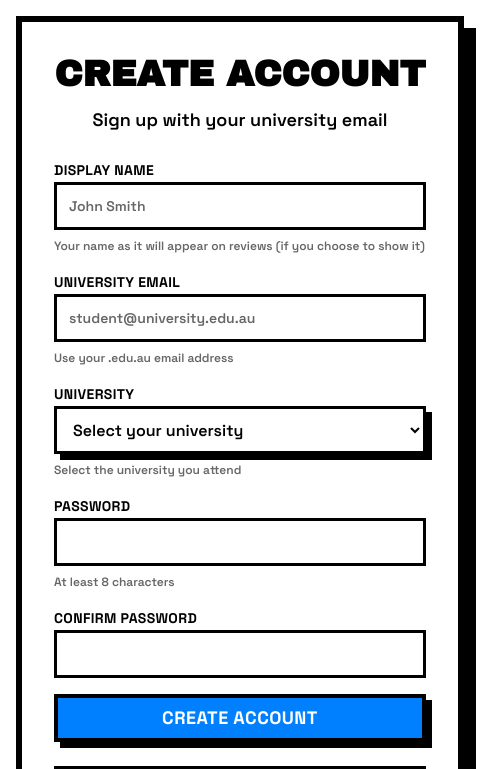
Test: Register › password mismatch shows error
Type "Test User" into the field labelled "Display Name". click: (240, 206)
box: [54,182,426,230]
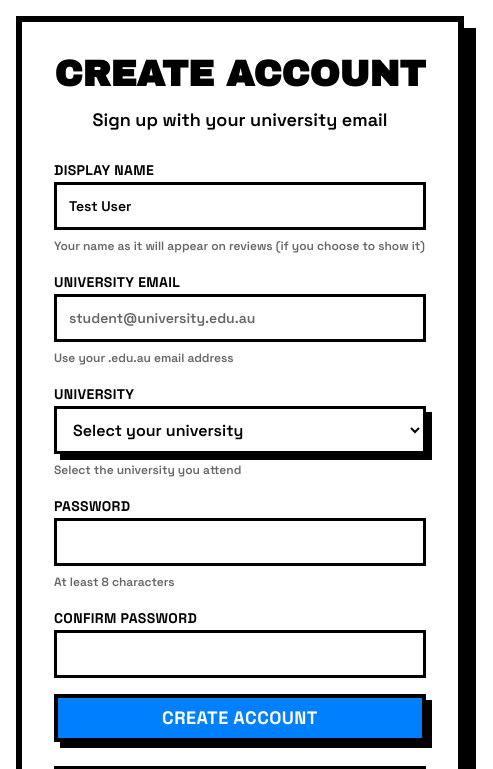
Type "test@uts.edu.au" into the field labelled "University Email". click: (240, 318)
box: [54,294,426,342]
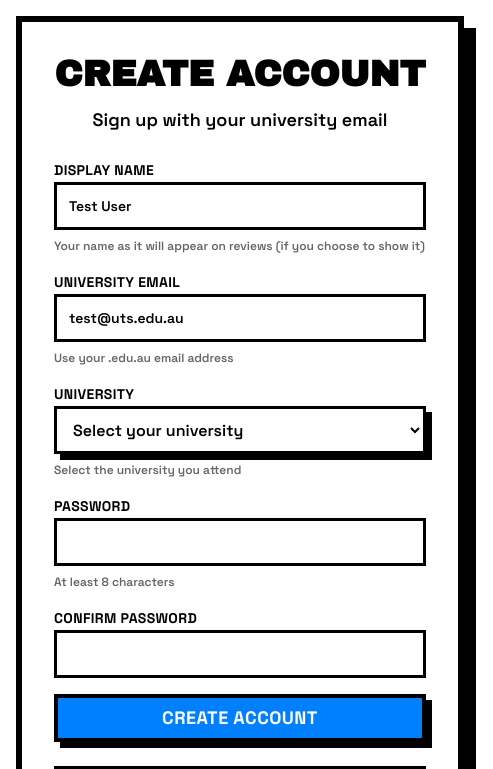
Select "University of Technology Sydney" in the dropdown labelled "University". click: (240, 430)
box: [54,406,426,454]
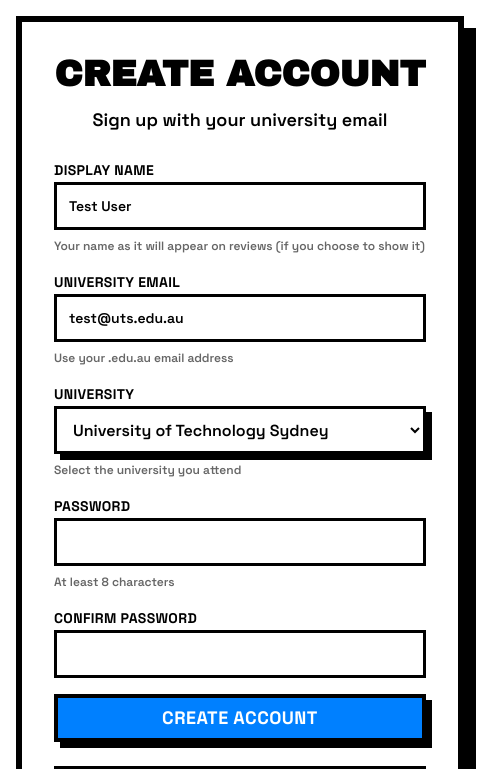
Type "password123" into the password field labelled "Password". click: (240, 542)
box: [54,518,426,566]
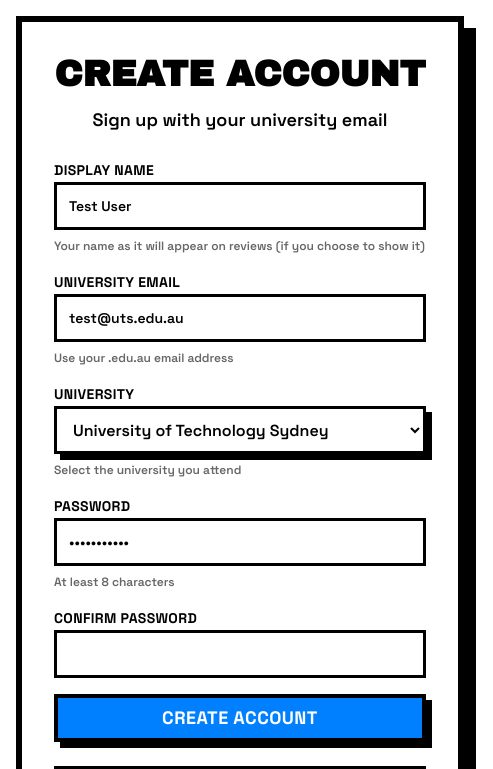
Type "different" into the password field labelled "Confirm Password". click: (240, 654)
box: [54,630,426,678]
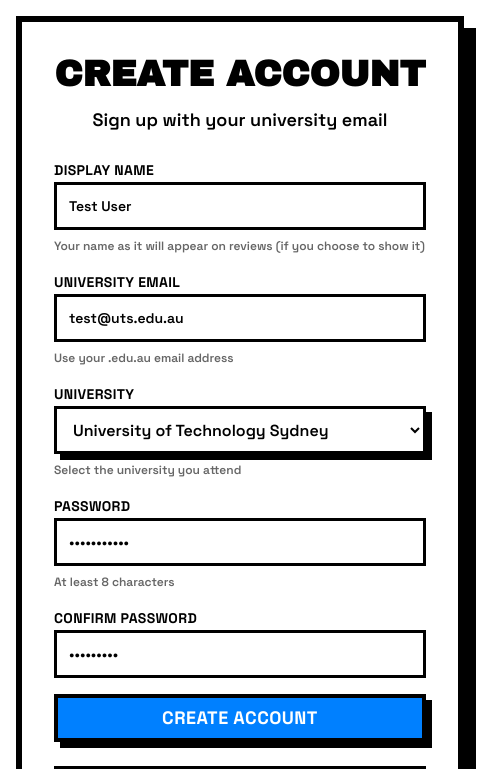
Click the button "Create account". click: (240, 718)
box: [54,694,426,742]
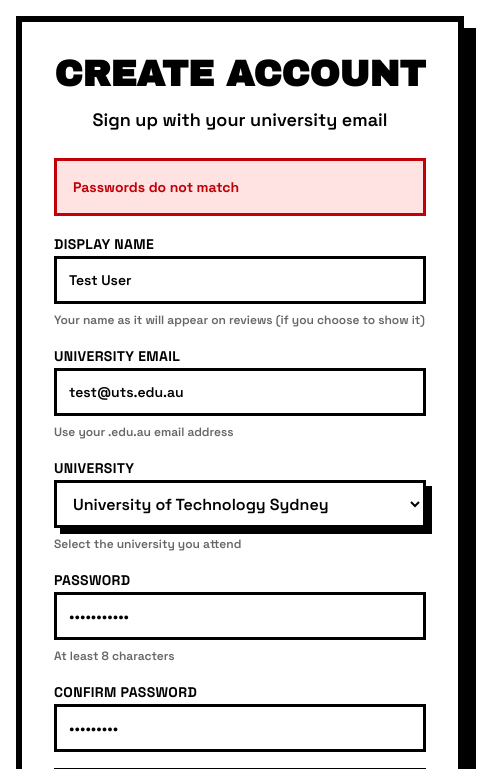
Result: the text "Passwords do not match" is shown at [54,158,426,216]
